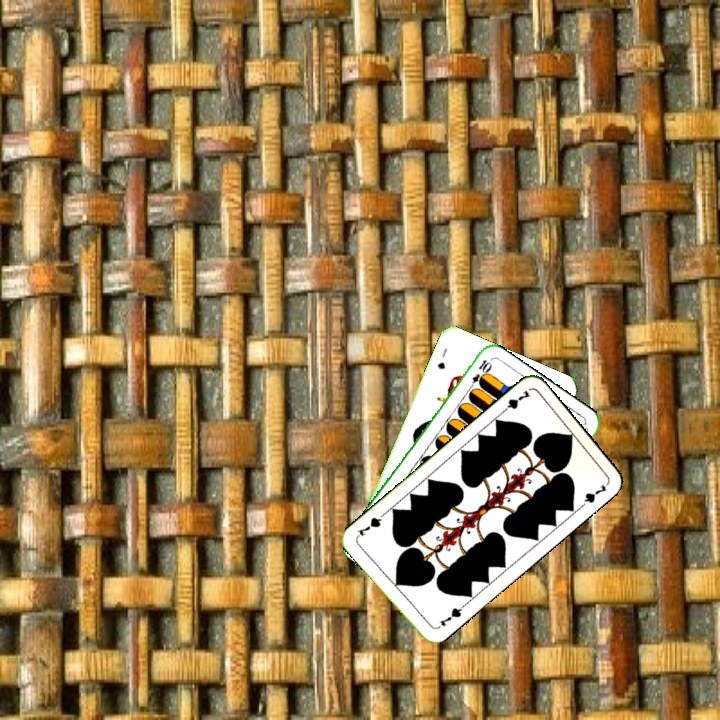E10: (464, 355, 492, 393)
G7: (497, 386, 533, 417), (435, 602, 466, 629)
GU: (433, 344, 450, 372)
